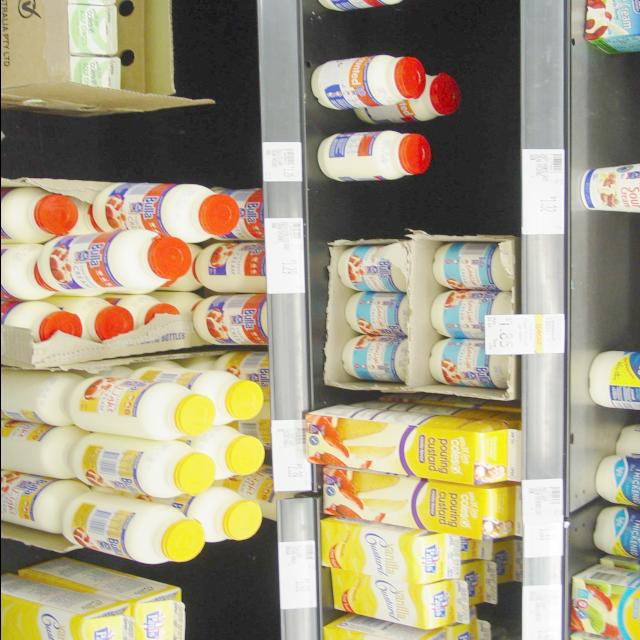empty_space: (6, 110, 211, 178), (175, 4, 251, 96), (188, 557, 270, 640), (316, 8, 451, 56), (576, 228, 632, 342), (317, 182, 431, 230), (579, 63, 634, 161)
